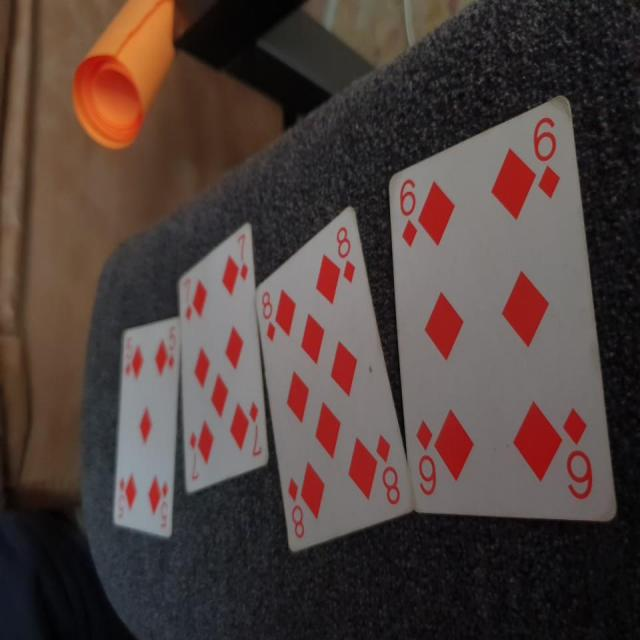5 Diamonds: (115, 316, 182, 536)
6 Diamonds: (386, 93, 617, 522)
7 Diamonds: (176, 221, 269, 495)
8 Diamonds: (256, 205, 417, 554)
